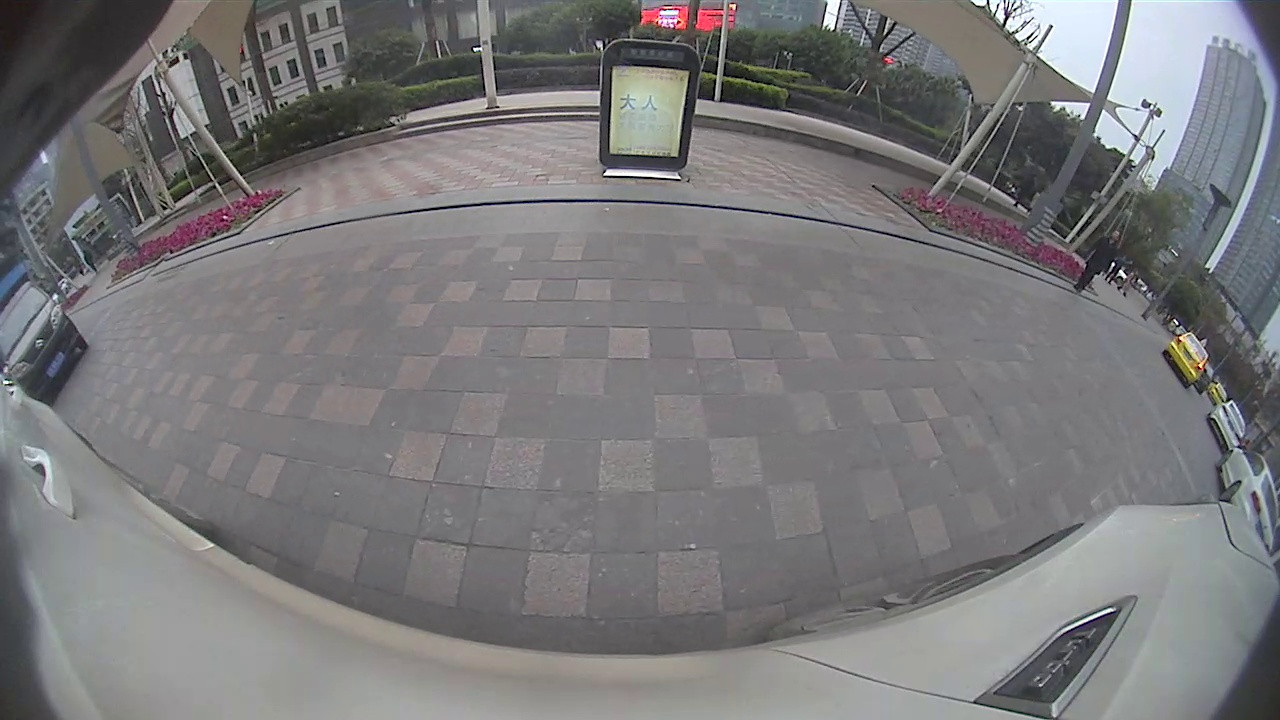car: (2, 279, 89, 406), (1160, 330, 1211, 389), (1206, 397, 1248, 453)
person: (1073, 226, 1122, 297)
